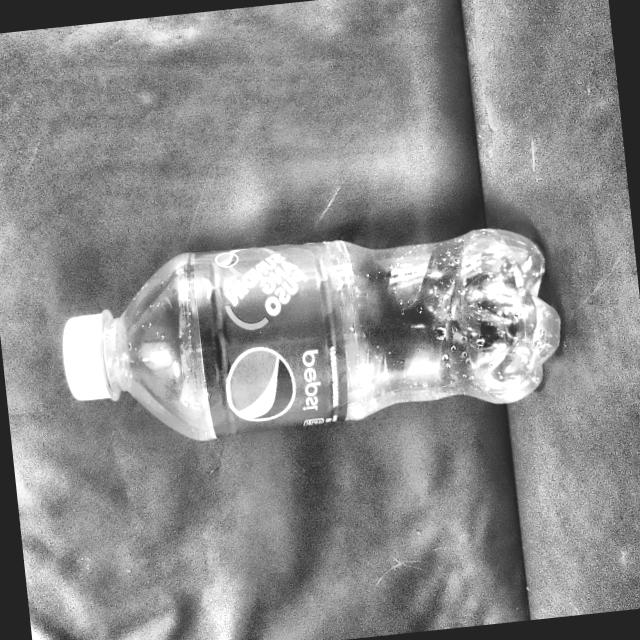Plastic-Bottle: (49, 208, 574, 458)
